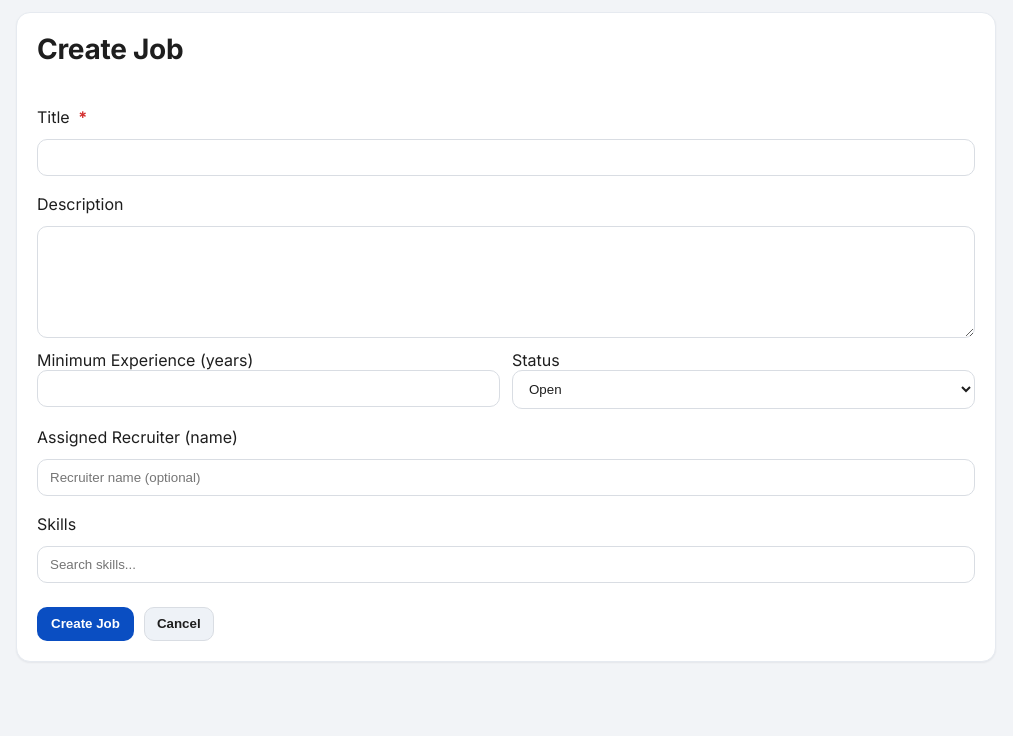
Test case: JobForm Component › adds skill from suggestions
In the field with placeholder "Search skills...": [506, 565] box [37,546,975,583], type "Java"
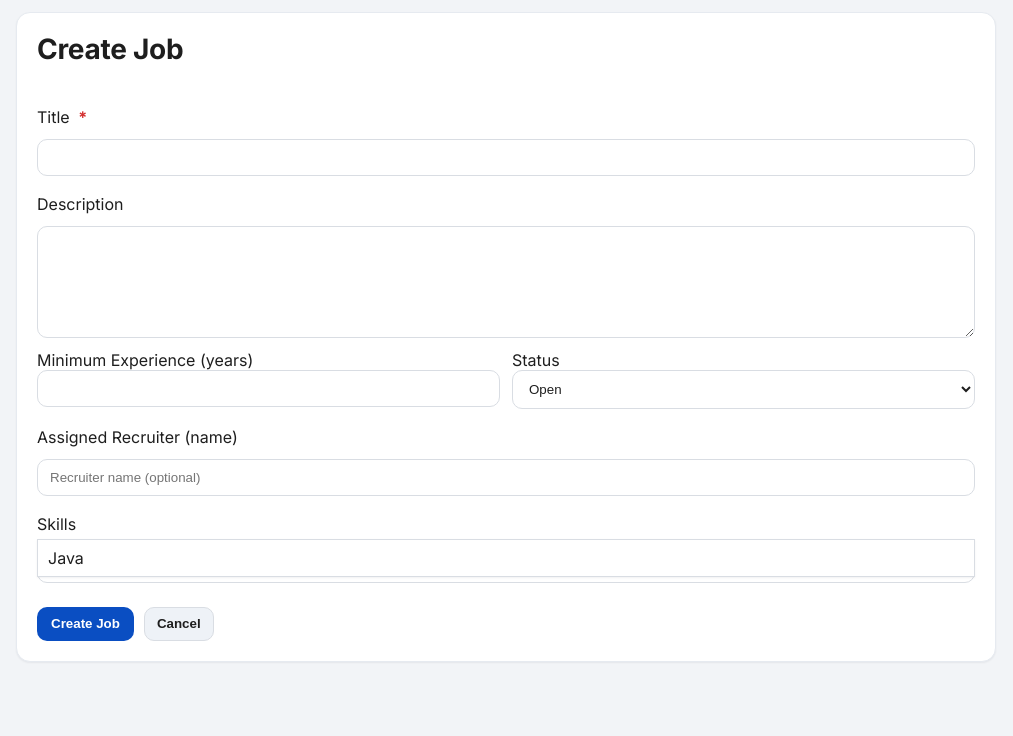
Click the list item "Java": [66, 558] box [48,548,84,568]
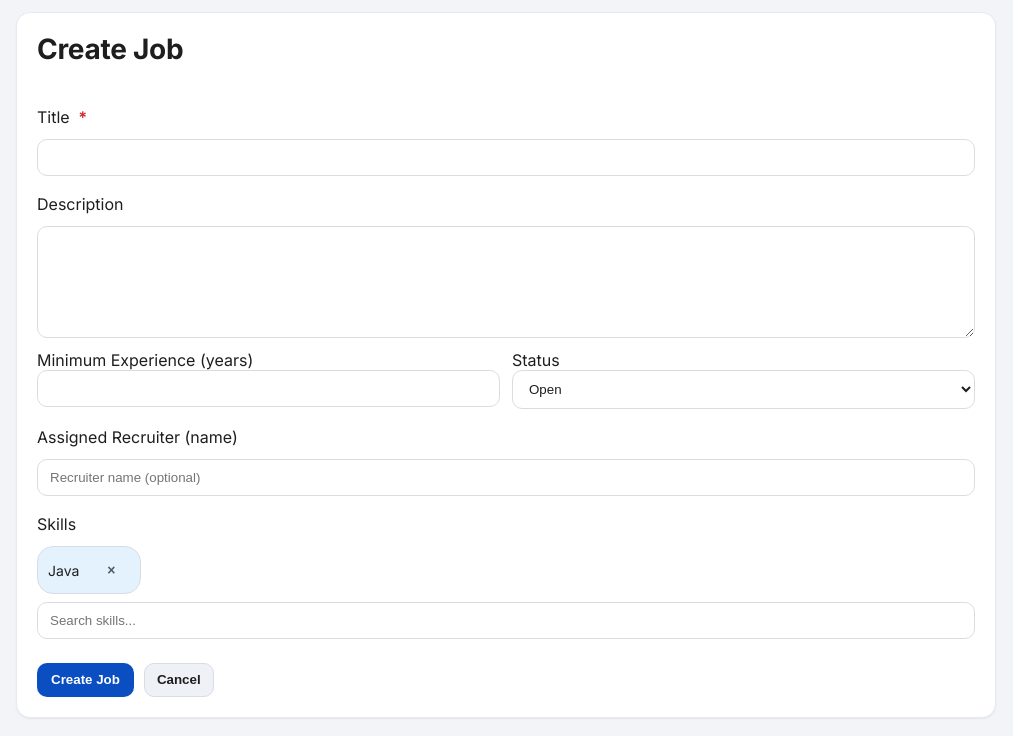
Check: the text "Java" is shown, box [48,562,79,579]
